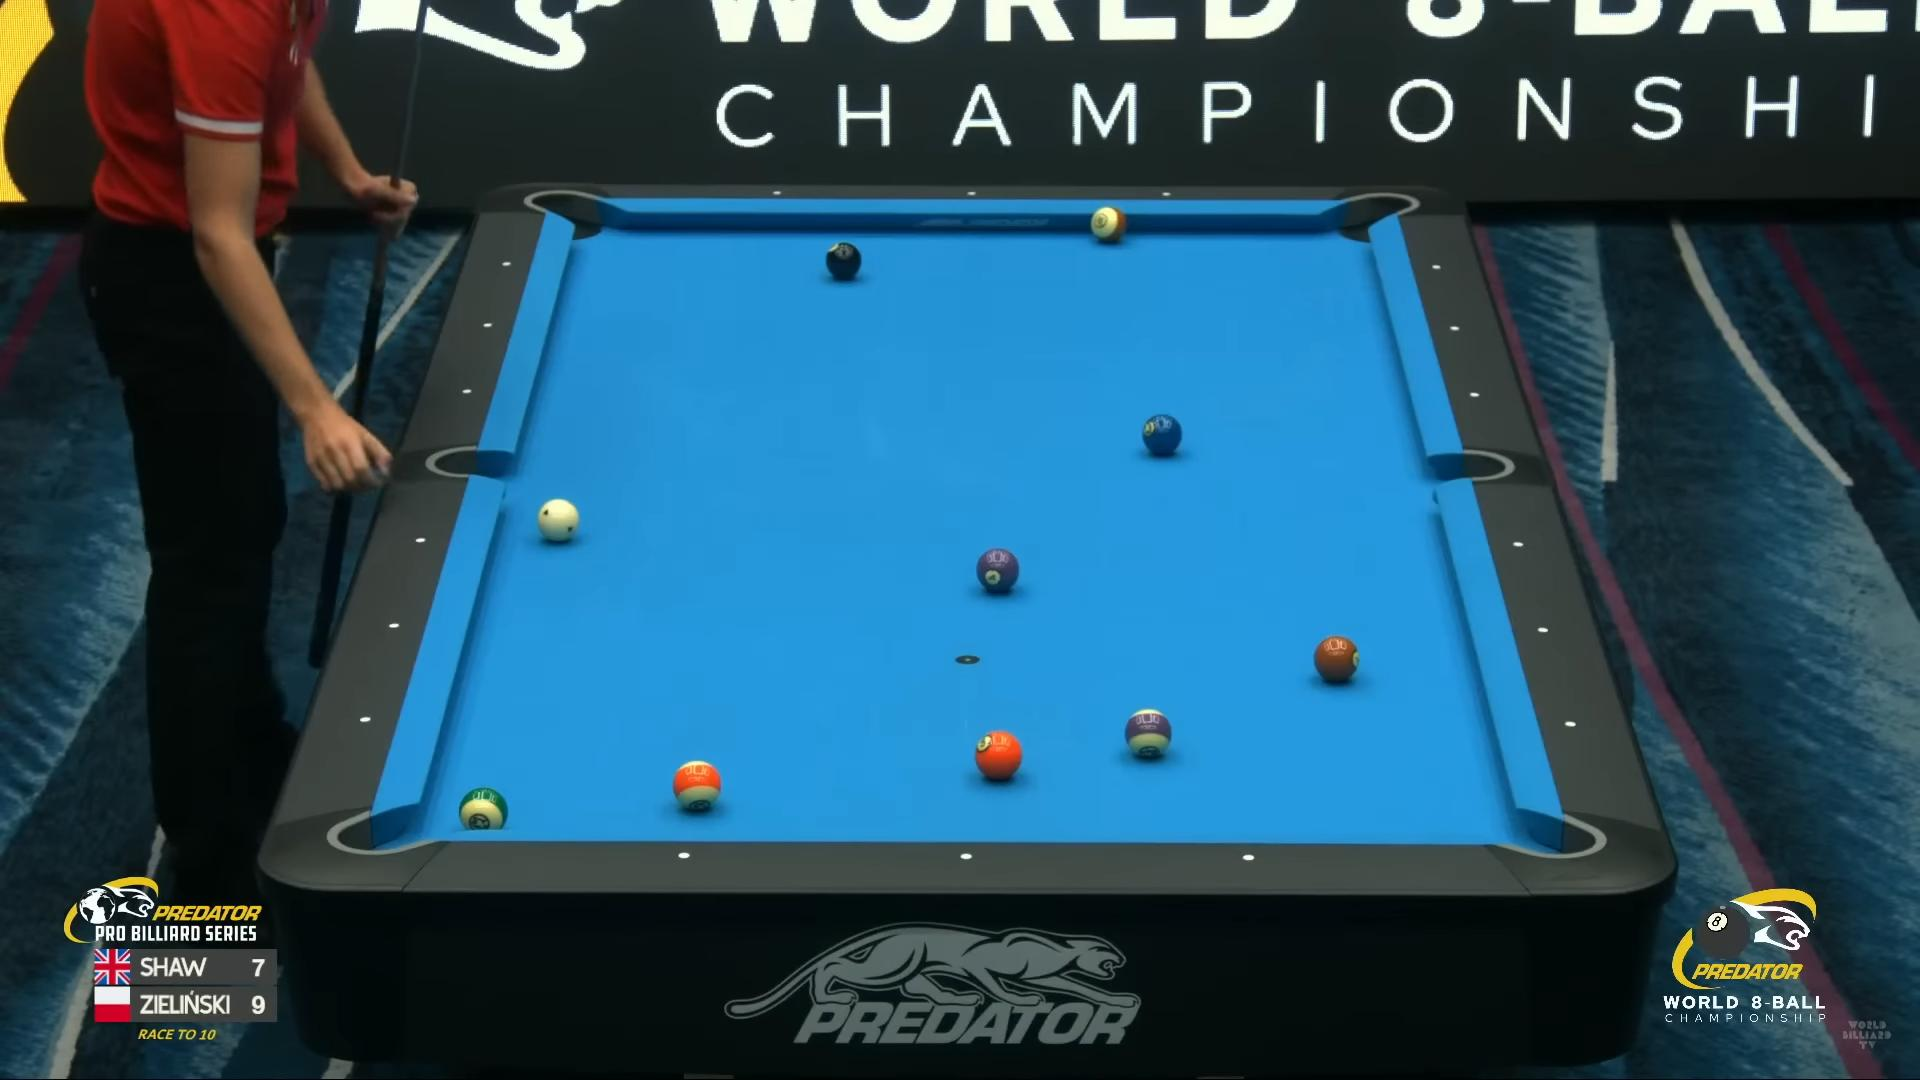Black: (825, 243, 861, 280)
Cue: (538, 498, 579, 542)
Dot: (460, 384, 475, 398), (770, 186, 785, 200), (964, 186, 978, 200), (1428, 260, 1443, 274), (1466, 388, 1481, 402), (1511, 537, 1526, 551), (1535, 622, 1549, 637), (388, 618, 401, 633), (480, 318, 495, 331), (1158, 187, 1172, 200), (1447, 320, 1461, 334), (1240, 851, 1254, 864), (959, 849, 972, 864), (357, 713, 371, 727), (414, 533, 427, 546), (500, 257, 513, 270), (1563, 717, 1576, 731), (676, 849, 690, 862)
Solid: (975, 731, 1022, 779), (1313, 636, 1360, 682), (976, 549, 1021, 592), (1142, 414, 1183, 454)
Striped: (673, 760, 721, 811), (1125, 708, 1172, 757), (460, 789, 509, 831), (1091, 207, 1129, 243)
